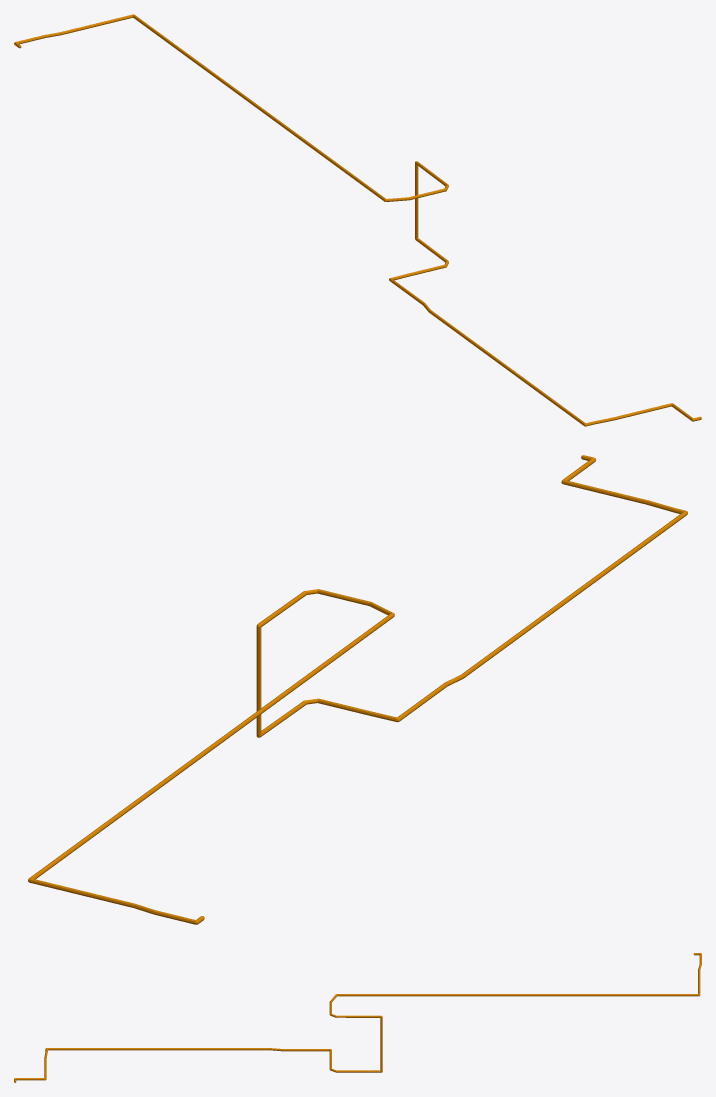
3 renders of one model, top to bottom at view 1: azimuth 30°, elevation 25°; view 2: azimuth 150°, elevation 25°; view 3: azimuth 270°, elevation 25°, orthographic. The views are drawn at different scales.
Bounding box in the file's own units: 1447 × 520 × 5694.
